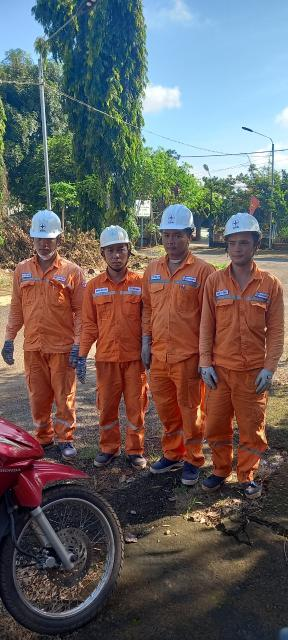gloves: (132, 331, 158, 368), (199, 356, 224, 392), (2, 326, 20, 375), (250, 368, 280, 397), (73, 356, 96, 386), (67, 343, 81, 369)
helmet: (155, 190, 203, 240), (28, 206, 71, 252), (219, 209, 272, 244), (98, 219, 137, 256)
shoes: (90, 438, 127, 469), (180, 449, 205, 493), (145, 445, 178, 475), (241, 477, 273, 506), (198, 468, 226, 495), (53, 435, 83, 460), (130, 448, 145, 475)
